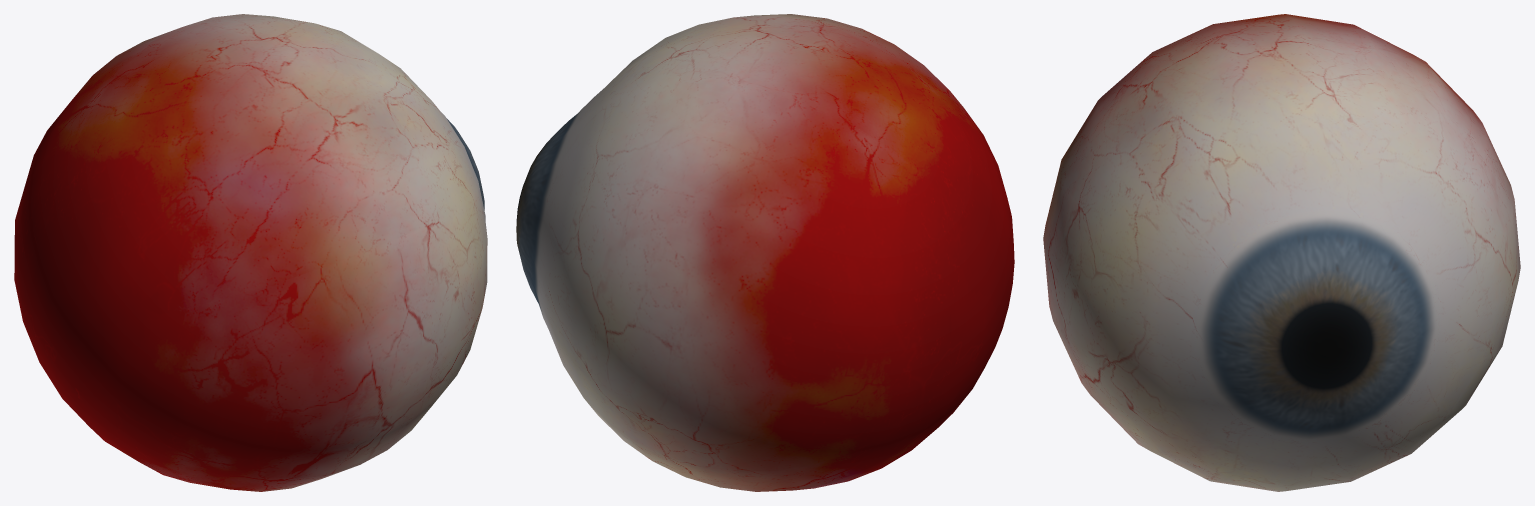
The picture shows the model from 3 angles, left to right: view 1: azimuth 30°, elevation 25°; view 2: azimuth 150°, elevation 25°; view 3: azimuth 270°, elevation 25°; orthographic projection.
Visible parts, largest first — view 1: eye_low.001; view 2: eye_low.001; view 3: eye_low.001.
Part boxes in pixels (bbox=[...]): eye_low.001: bbox=[14, 14, 487, 491]; eye_low.001: bbox=[516, 14, 1014, 491]; eye_low.001: bbox=[1043, 14, 1520, 491].
Size of the model in its own units: 0.105 by 0.1001 by 0.1003.
1 material, 1 textured.
